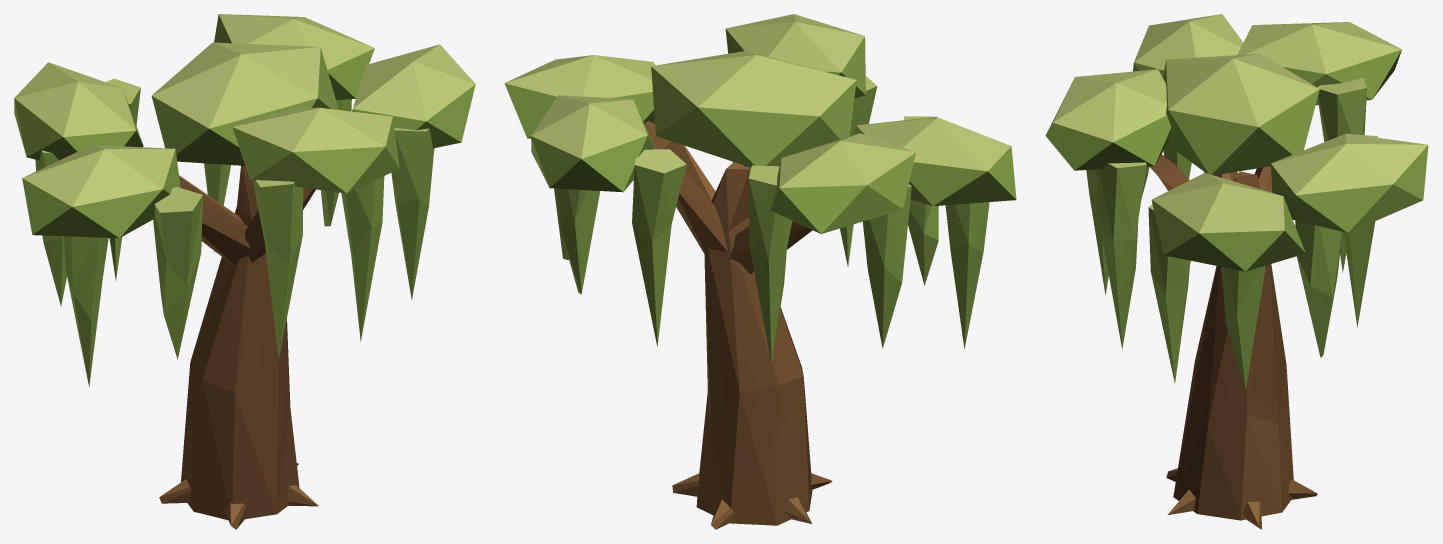
3 views of the same model, side by side, from view 1: azimuth 30°, elevation 25°; view 2: azimuth 150°, elevation 25°; view 3: azimuth 270°, elevation 25° (orthographic).
Parts seen in each view (by area): view 1: WK_Tree_Willow_LemonWeeping_LOD1_Balanced; view 2: WK_Tree_Willow_LemonWeeping_LOD1_Balanced; view 3: WK_Tree_Willow_LemonWeeping_LOD1_Balanced.
Part boxes in pixels (box(x1,y1,x2,y2)): WK_Tree_Willow_LemonWeeping_LOD1_Balanced: box(14, 14, 475, 529); WK_Tree_Willow_LemonWeeping_LOD1_Balanced: box(504, 14, 1016, 529); WK_Tree_Willow_LemonWeeping_LOD1_Balanced: box(1045, 14, 1428, 529).
Bounding box in the file's own units: 5.65 × 5.21 × 4.07.
